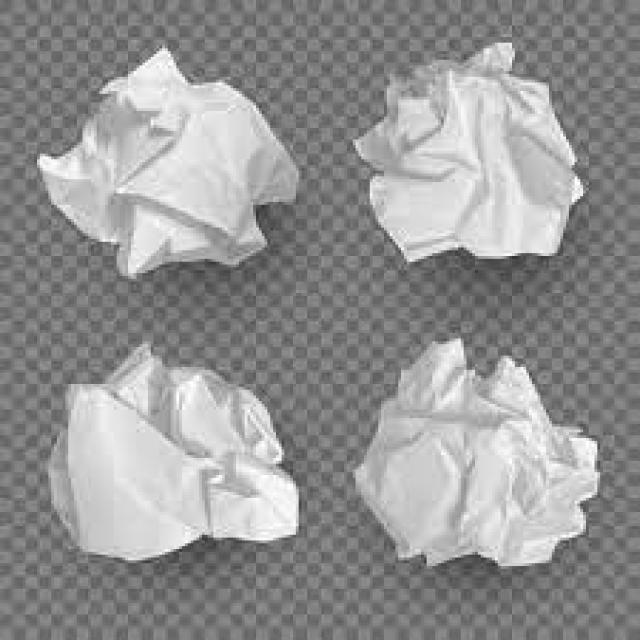crampled paper: (39, 49, 299, 276)
